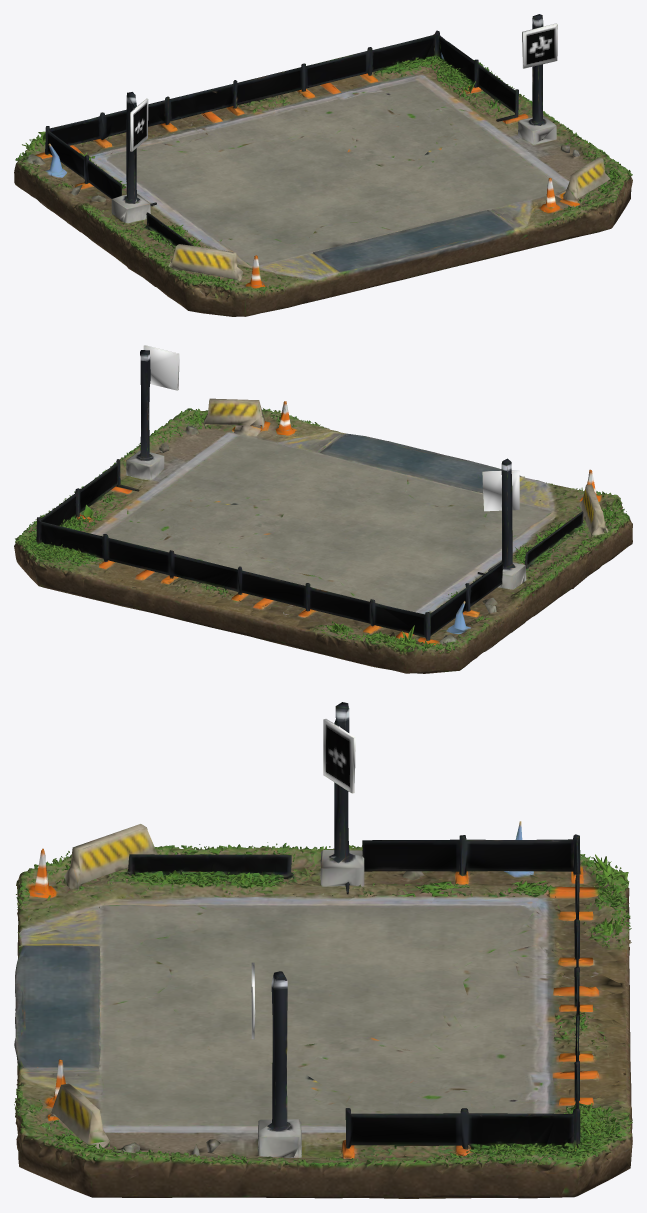
File: ground-standard.glb
The picture shows the model from 3 angles, top to bottom: view 1: azimuth 30°, elevation 25°; view 2: azimuth 150°, elevation 25°; view 3: azimuth 270°, elevation 25°; orthographic projection. The views are drawn at different scales.
Visible parts, largest first — view 1: geometry_0; view 2: geometry_0; view 3: geometry_0.
Boxes of the visible parts, bbox=[...] form: geometry_0: bbox=[14, 14, 632, 316]; geometry_0: bbox=[14, 345, 632, 673]; geometry_0: bbox=[14, 702, 632, 1198].
Bounding box in the file's own units: 0.9989 × 0.3167 × 0.8297.
Materials: 1 (1 with a texture image).
